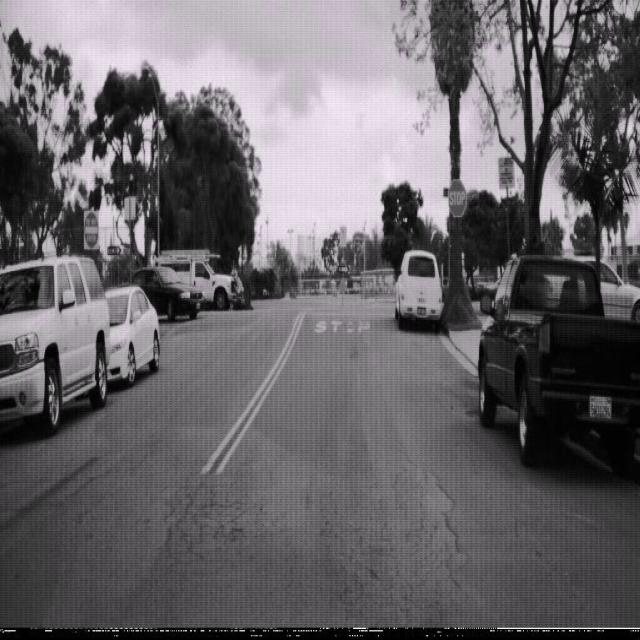stop_sign: (448, 178, 467, 218)
